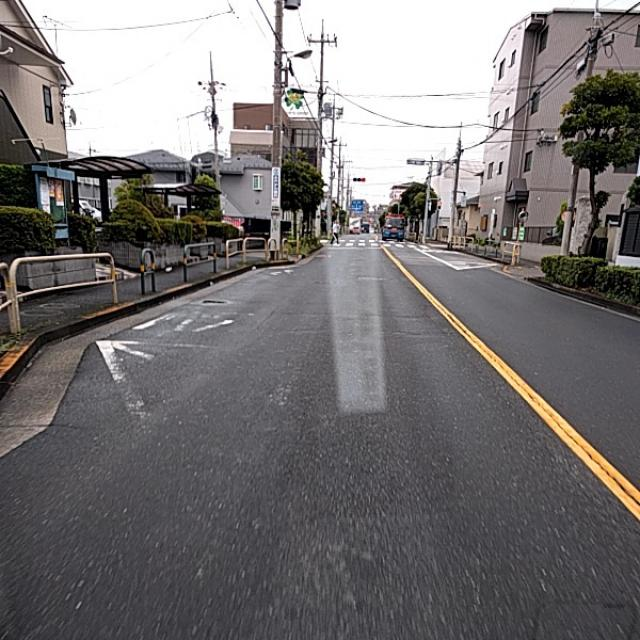pothole: (232, 419, 301, 495)
